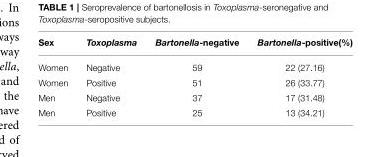table: (37, 37, 351, 117)
table column: (247, 37, 351, 117), (145, 37, 247, 117), (76, 37, 145, 117), (37, 37, 76, 117)
table column header: (37, 37, 351, 54)
table row: (37, 54, 351, 75), (37, 37, 351, 54), (37, 75, 351, 90), (37, 90, 351, 105), (37, 105, 351, 117)
